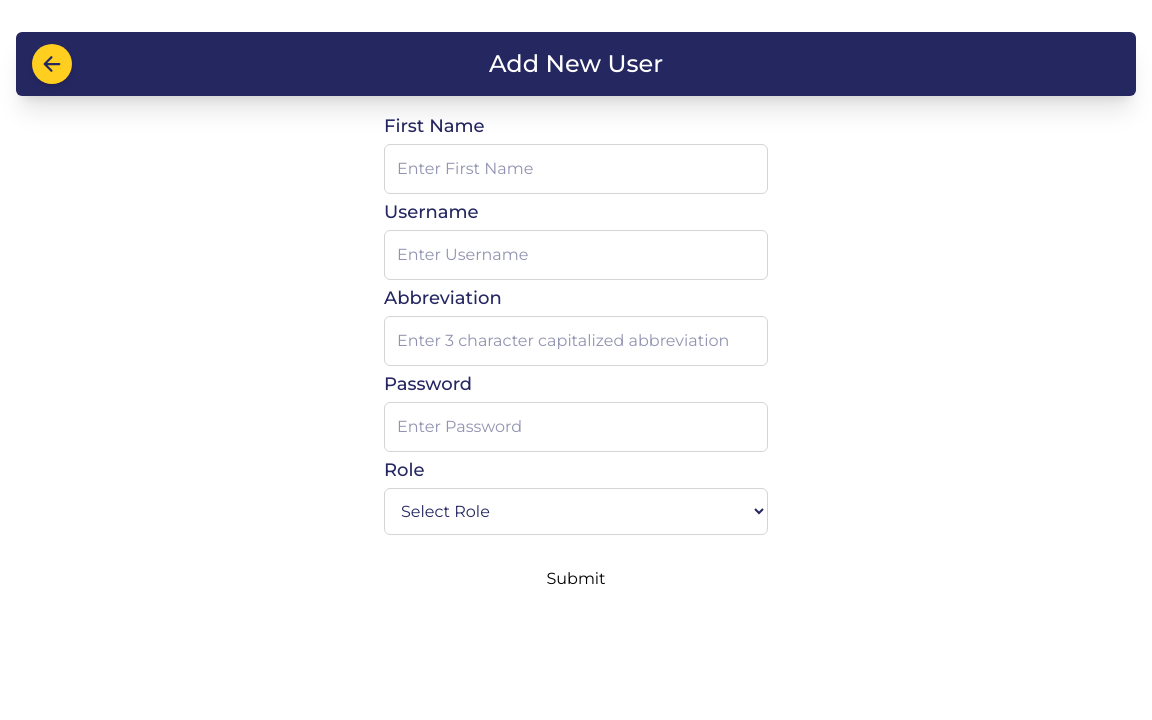
Test: AddUser page › db select returns error -> displays generic submit error
Type "Eve" into the field labelled "First Name" at (576,169), box [384,144,768,194]
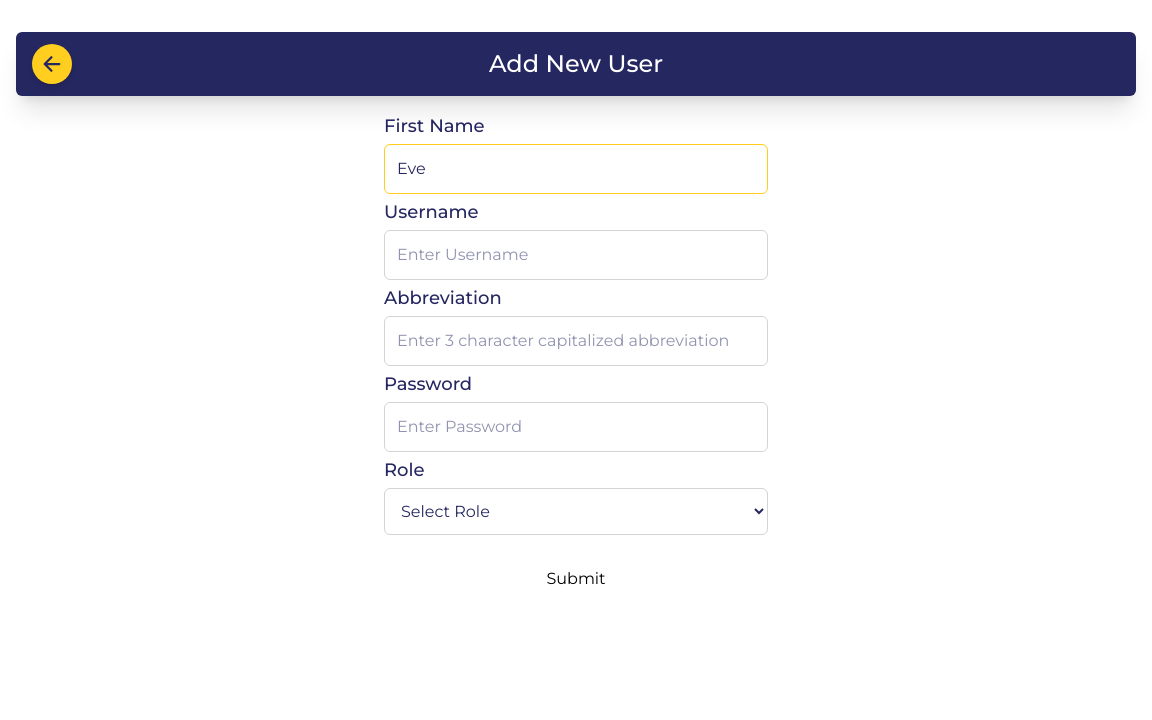
Type "ABB" into the field labelled "Abbreviation" at (576,341), box [384,316,768,366]
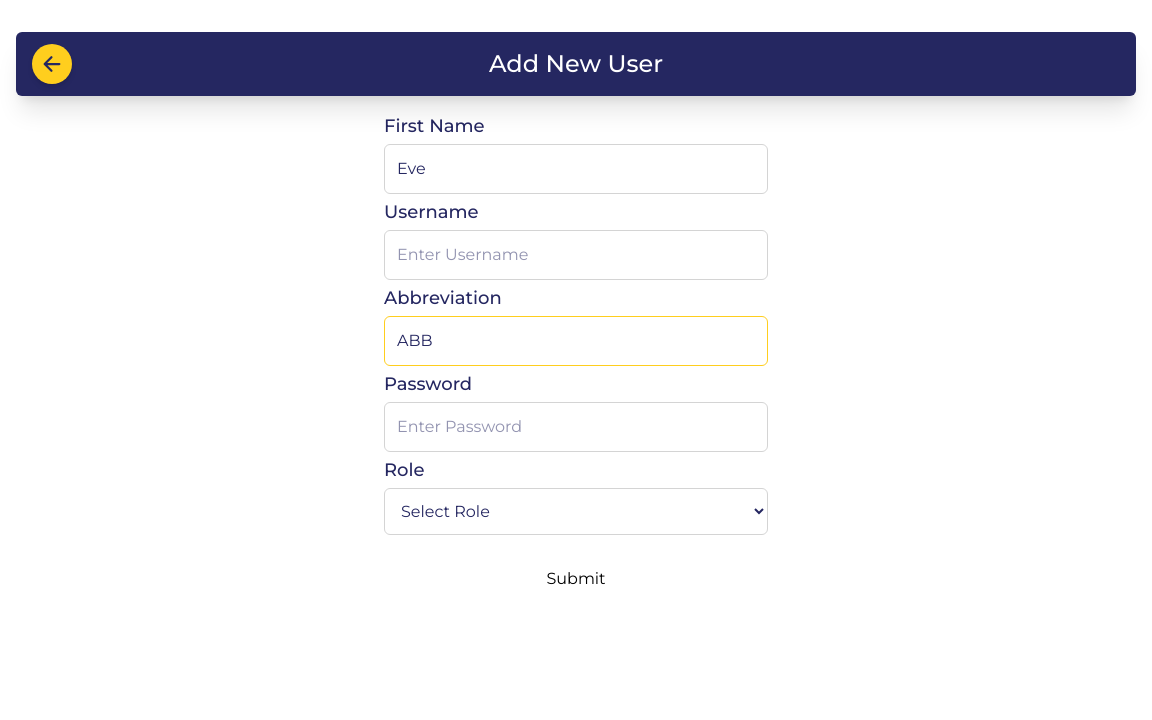
Type "eve" into the field labelled "Username" at (576,255), box [384,230,768,280]
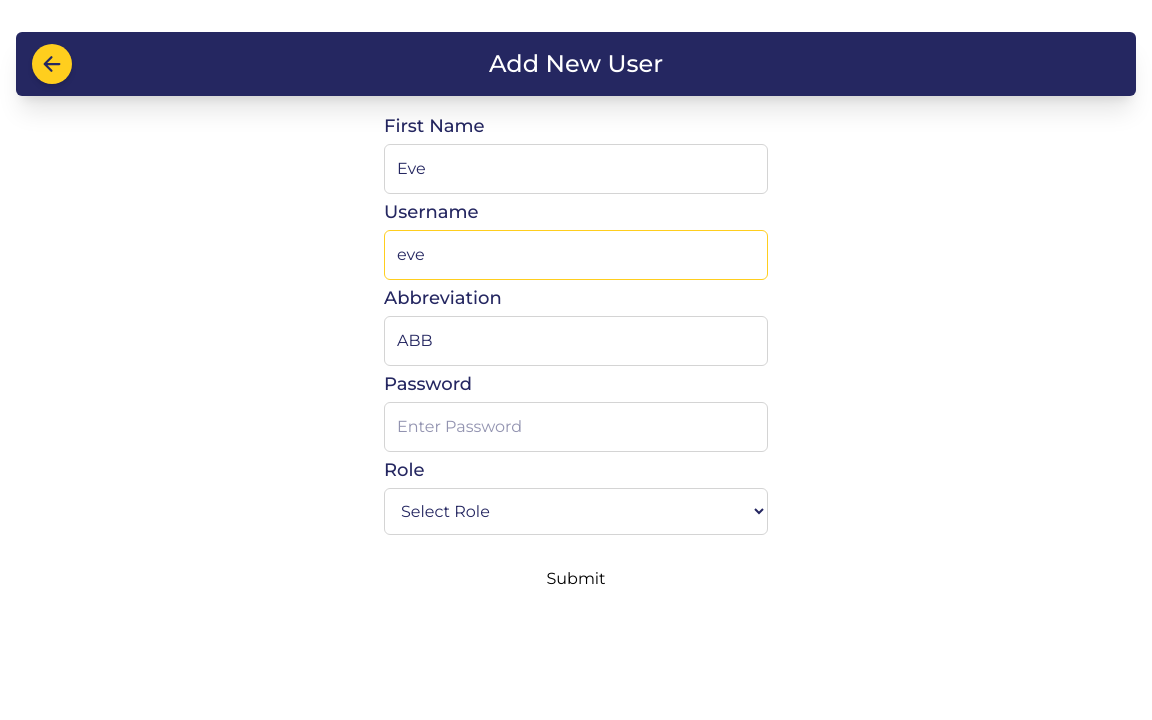
Type "Password1!" into the field labelled "Password" at (576,427), box [384,402,768,452]
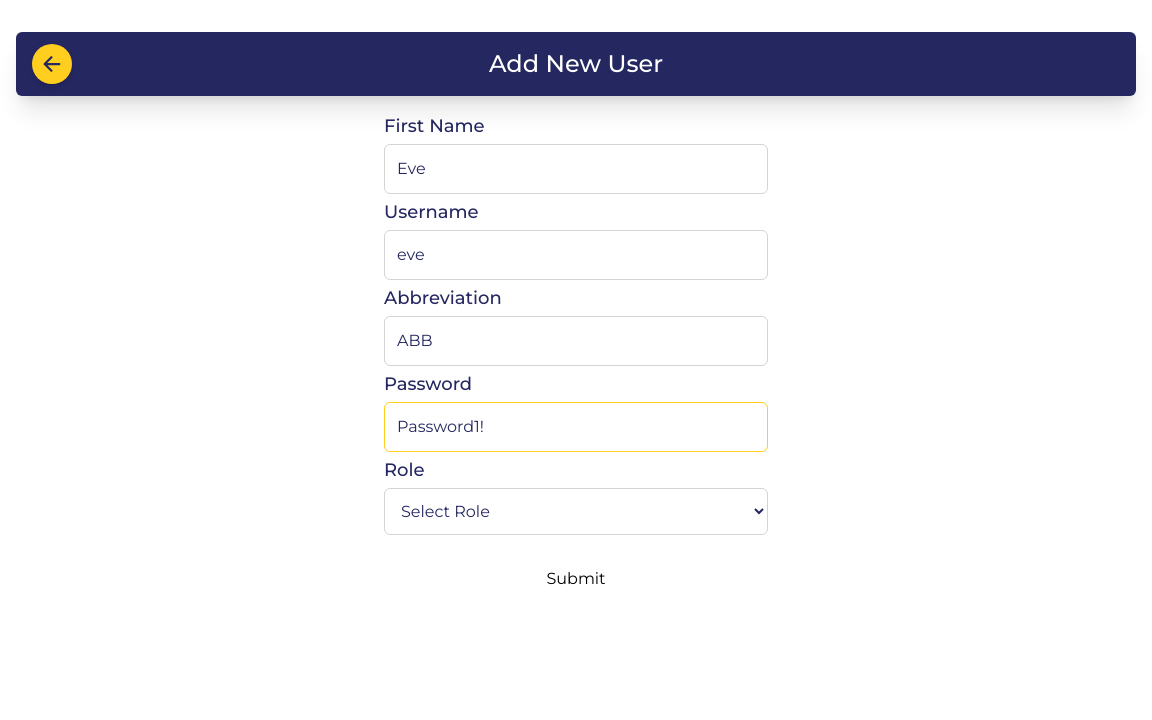
Select "Dispatch" in the dropdown labelled "Role" at (576,512), box [384,488,768,535]
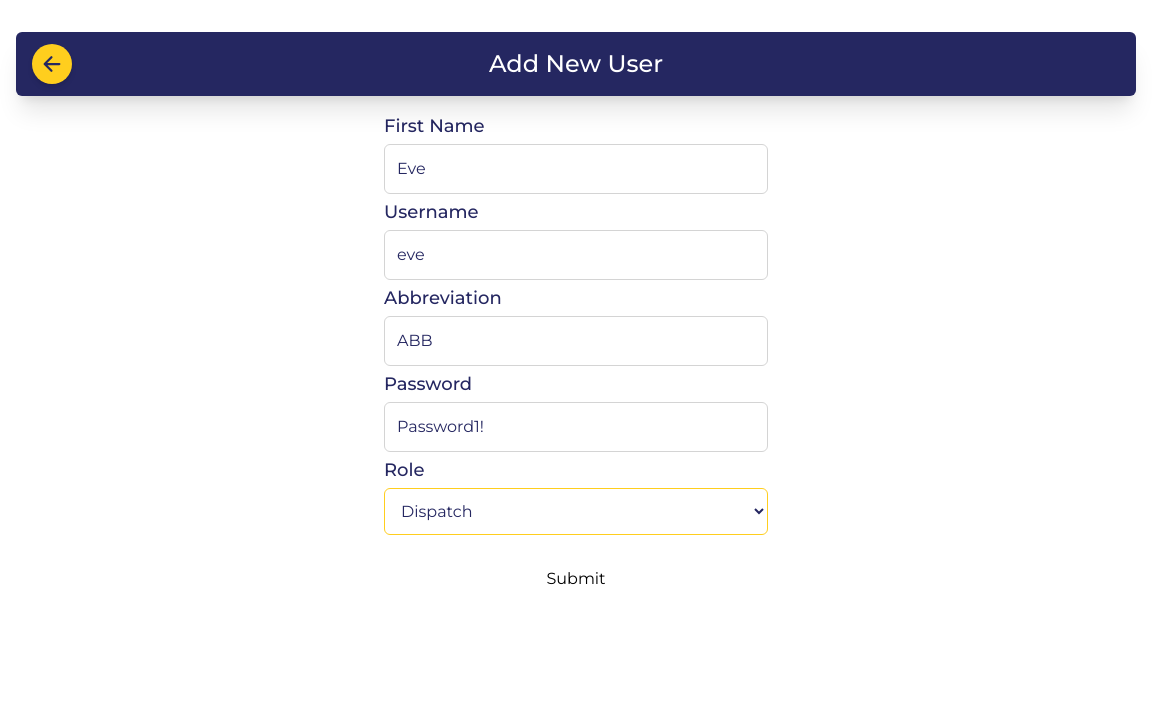
Click the button "Submit" at (576,579), box [546,567,606,591]
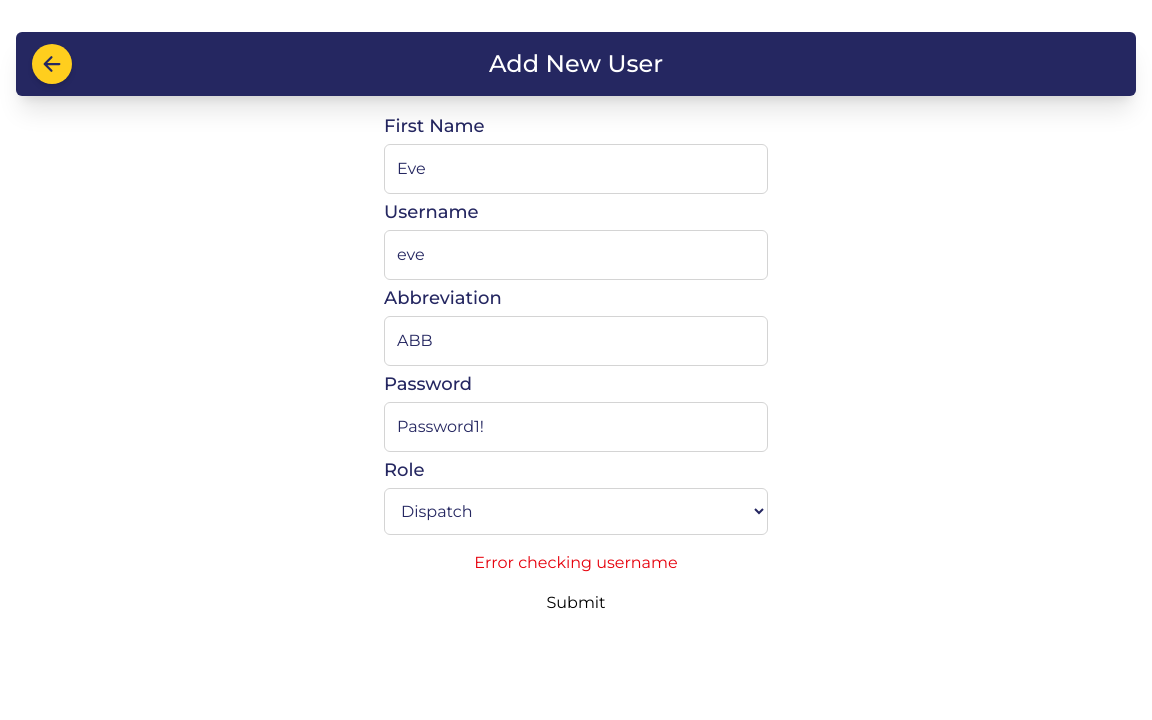
Expected: the text "Error checking username" is shown, [474,551,678,575]
